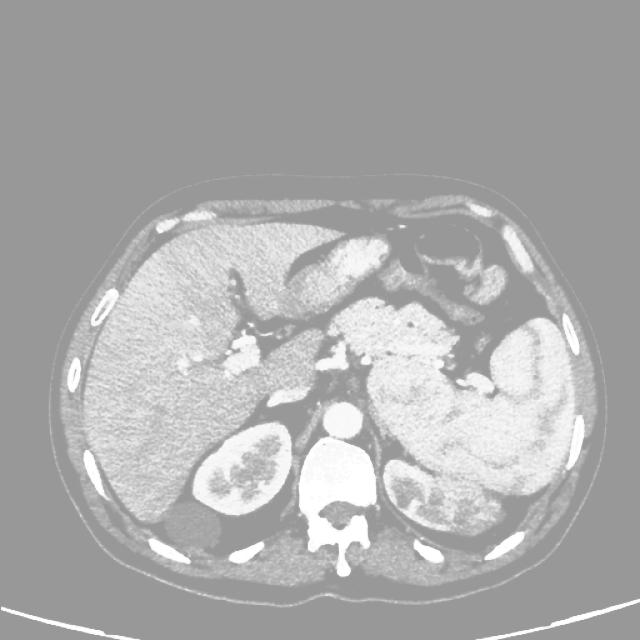TUMOR: (36, 284, 579, 531)
